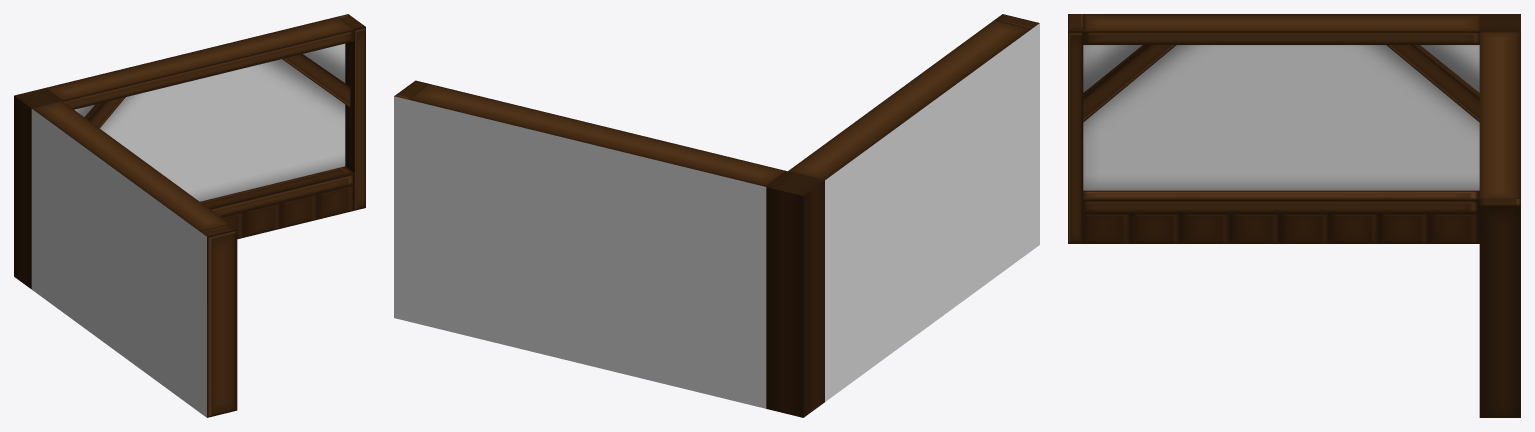
Rendered from wall.FBX.
3 renders of one model, left to right at view 1: azimuth 30°, elevation 25°; view 2: azimuth 150°, elevation 25°; view 3: azimuth 270°, elevation 25°, orthographic. The views are drawn at different scales.
Visible parts, largest first — view 1: Object012; view 2: Object012; view 3: Object012.
Boxes of the visible parts, bbox=[...] form: Object012: bbox=[14, 14, 365, 417]; Object012: bbox=[394, 14, 1039, 417]; Object012: bbox=[1068, 14, 1520, 417].
Bounding box in the file's own units: 11 × 5.7 × 11.
